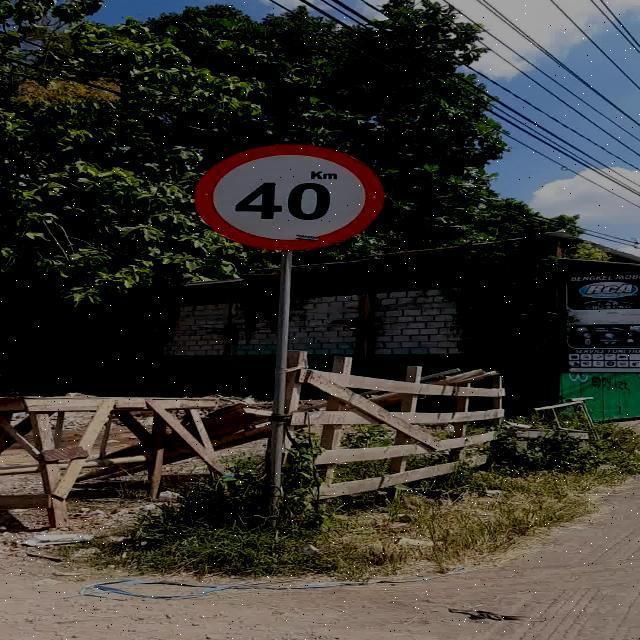Kecepatan Maks. 40 km: (193, 143, 384, 251)
